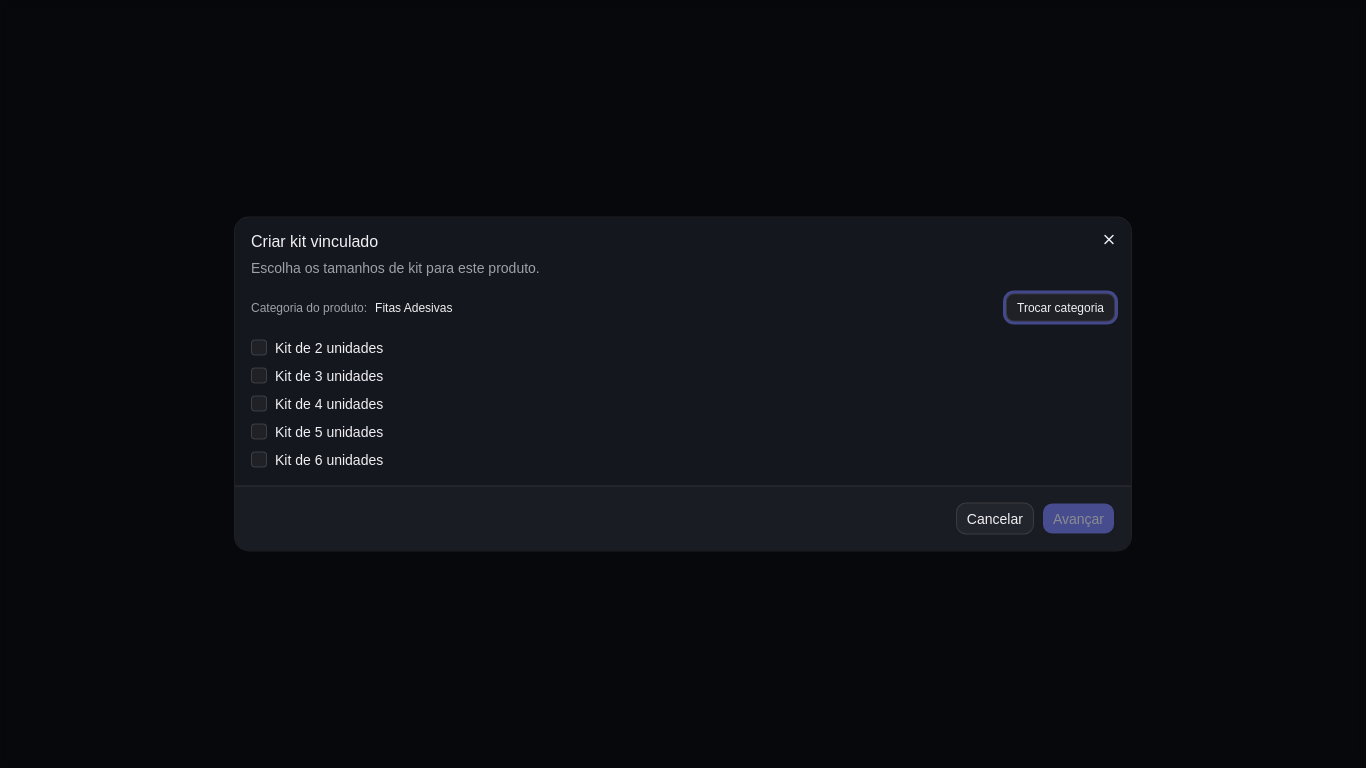
Trocar categoria › "×" no chip remove o override — volta a herdar a categoria da base
Click the button "Trocar categoria" at (1061, 308), box [1006,294,1115,322]
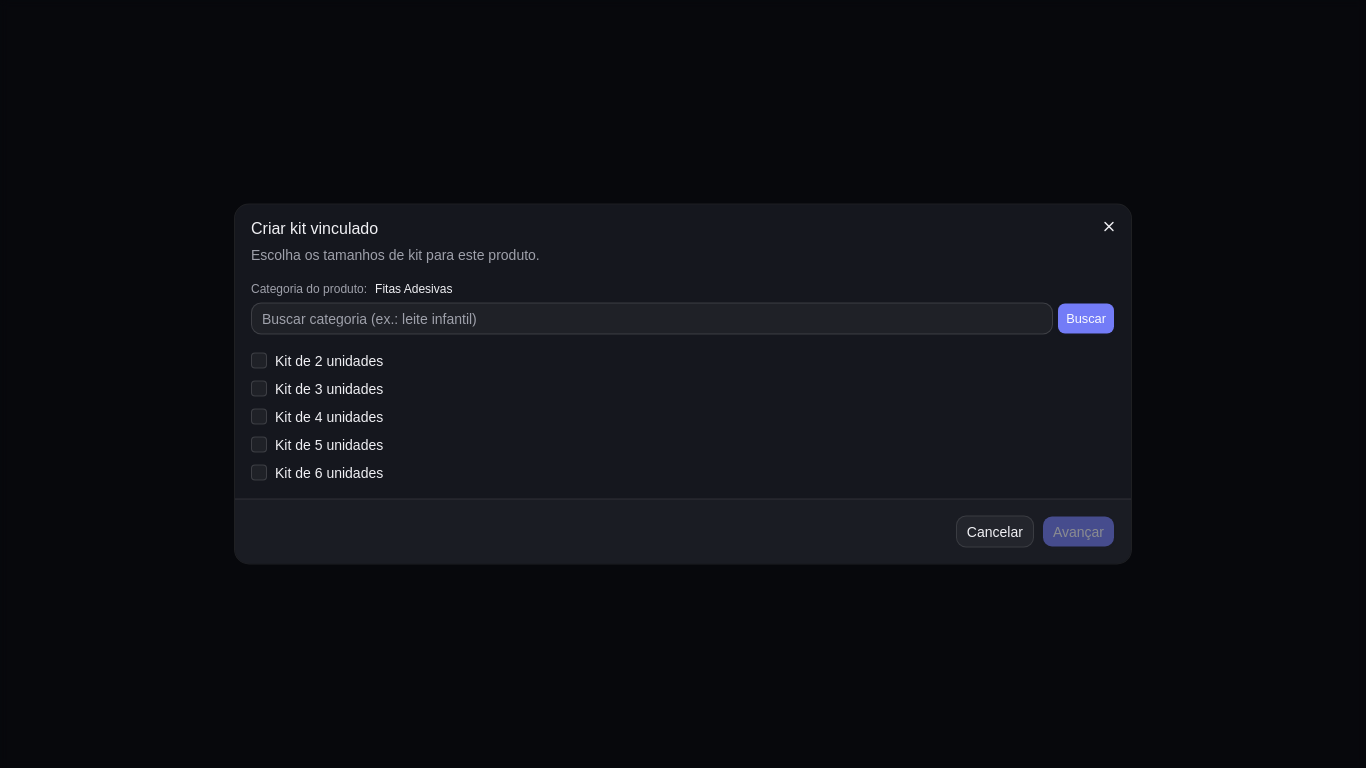
Type "leite" into the field with placeholder "Buscar categoria (ex.: leite infantil)" at (652, 318), box [251,302,1053,334]
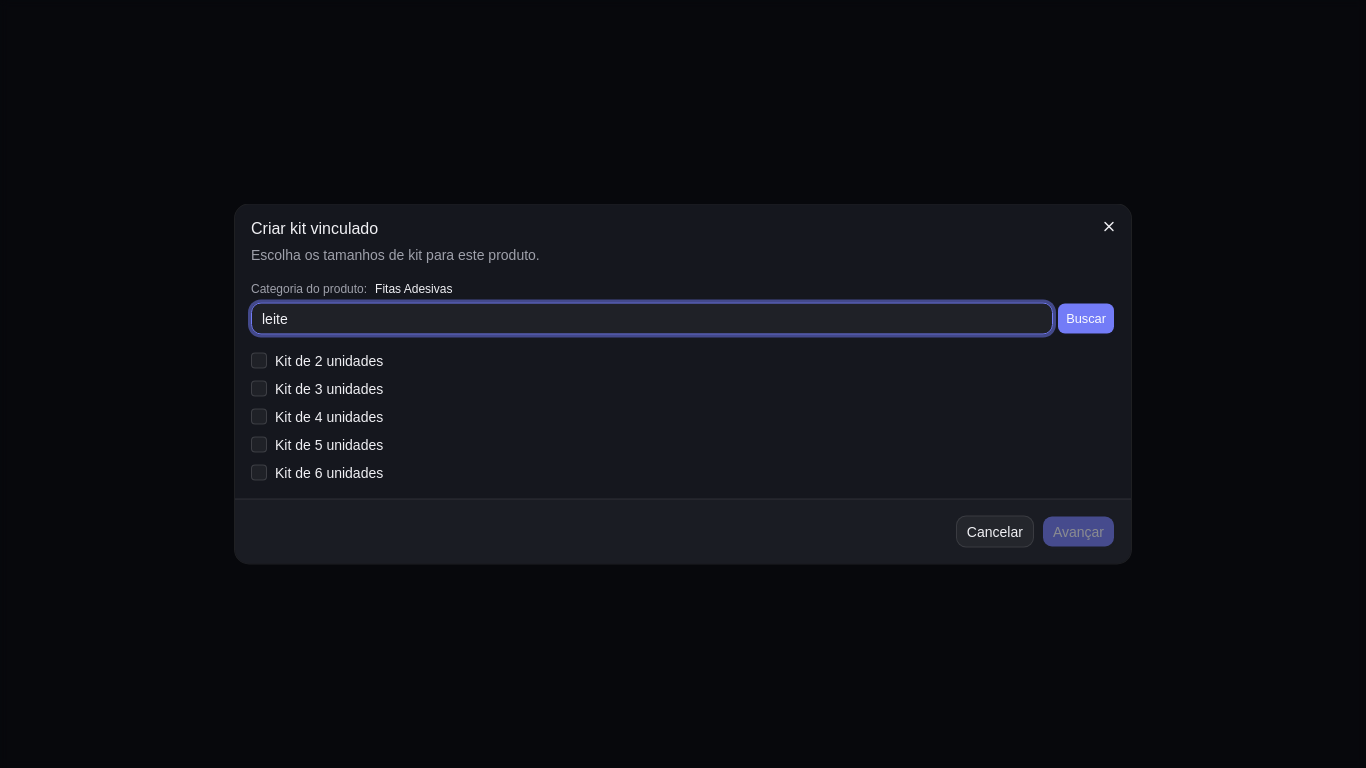
Click the button "Buscar" at (1086, 318), box [1057,302,1115,334]
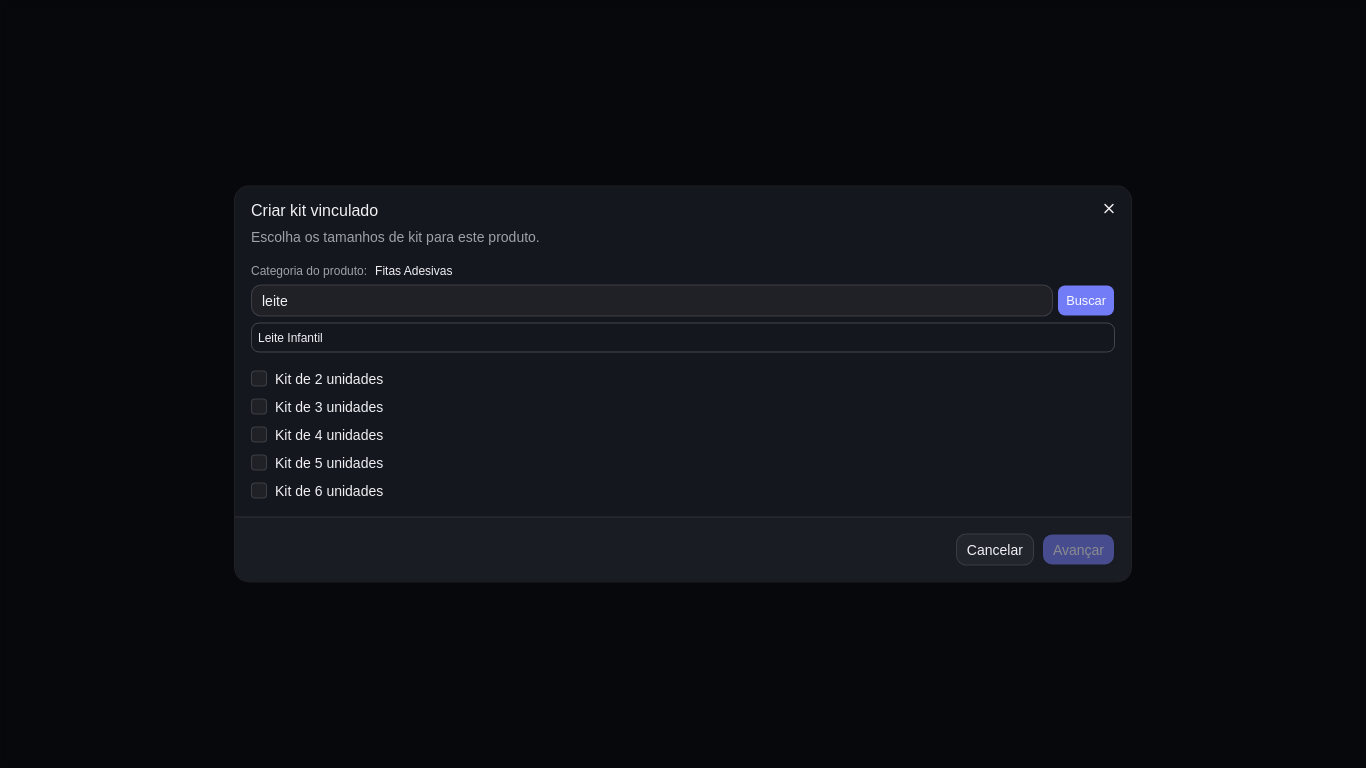
Now the text "Leite Infantil" is shown, box [258,330,323,344]
Click the button "Leite Infantil" at (290, 338), box [251,322,1115,352]
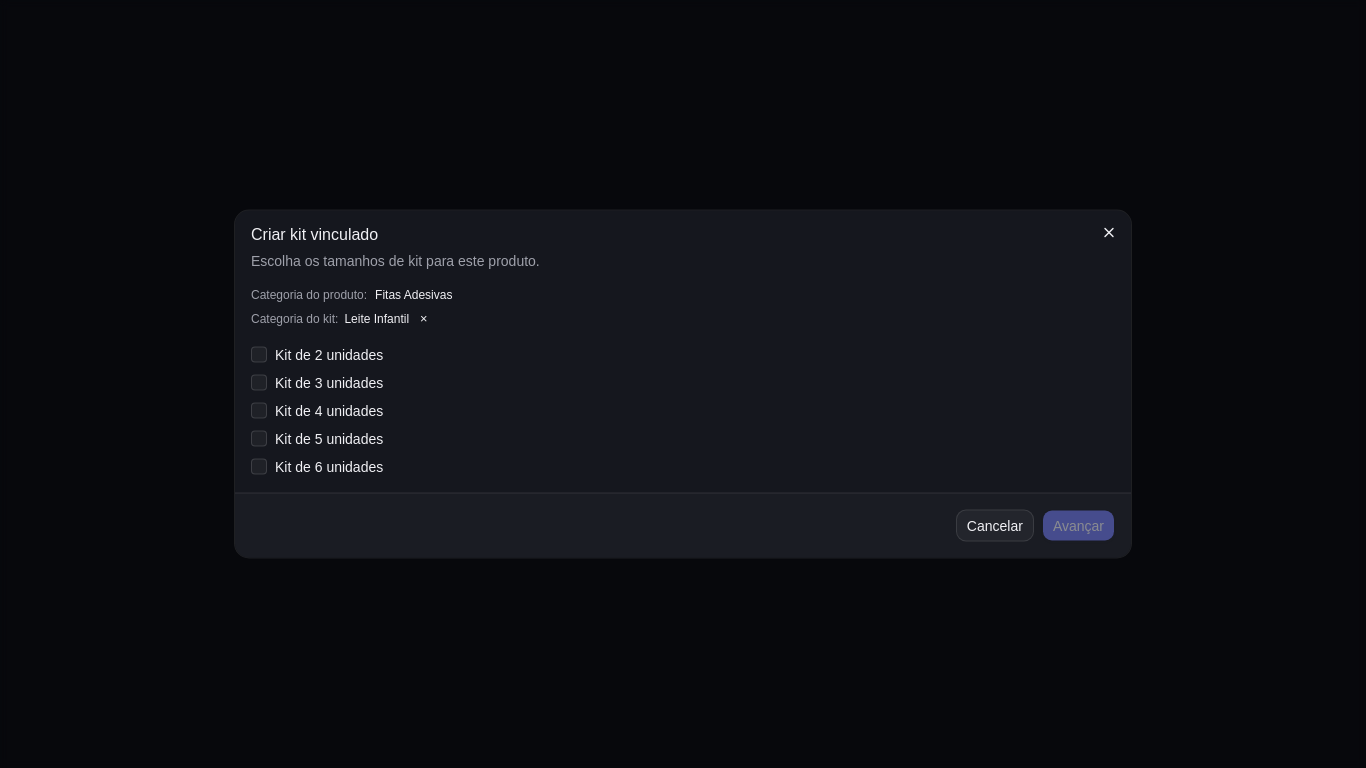
Now the text "Categoria do kit:" is shown, box [251,310,338,326]
Click the button named "Remover categoria escolhida" at (424, 318), box [415,308,433,328]
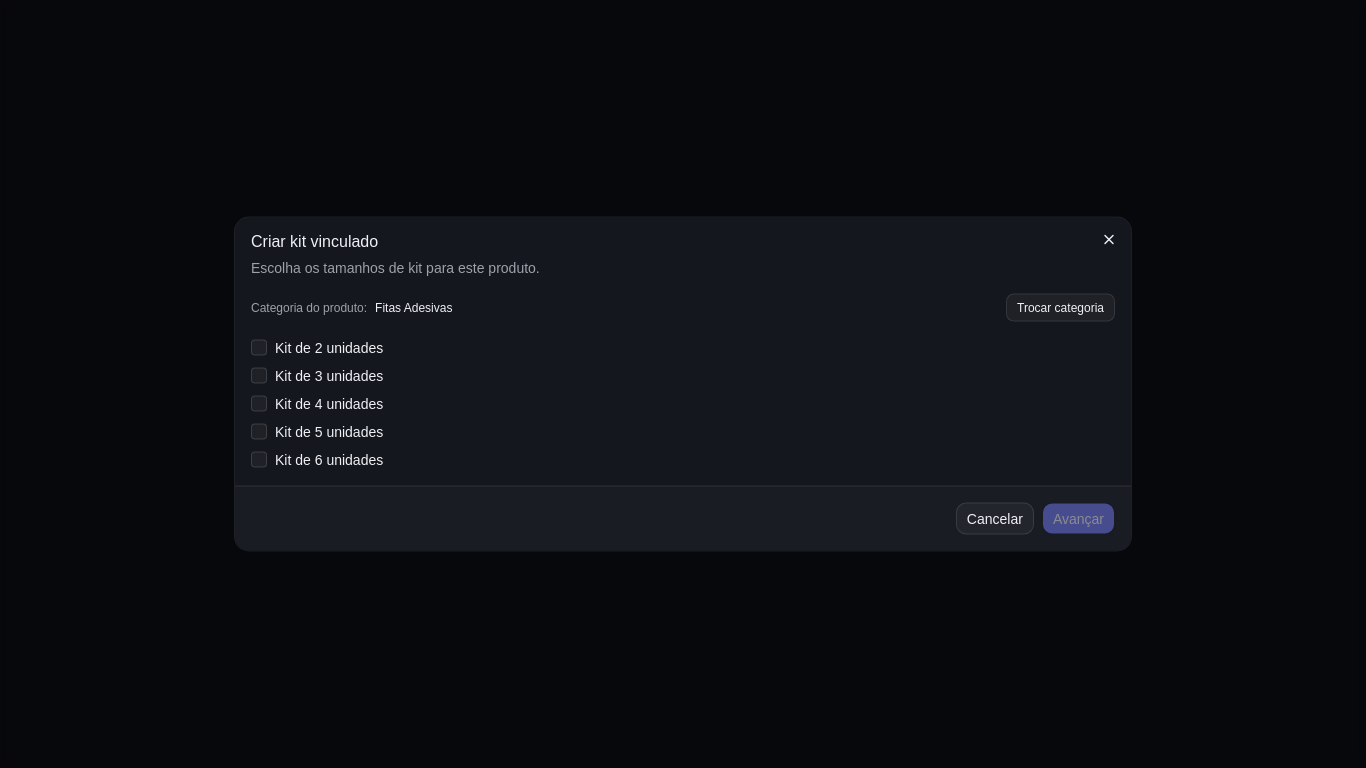
Now the text "Categoria do kit:" is gone
Now the text "Leite Infantil" is gone
